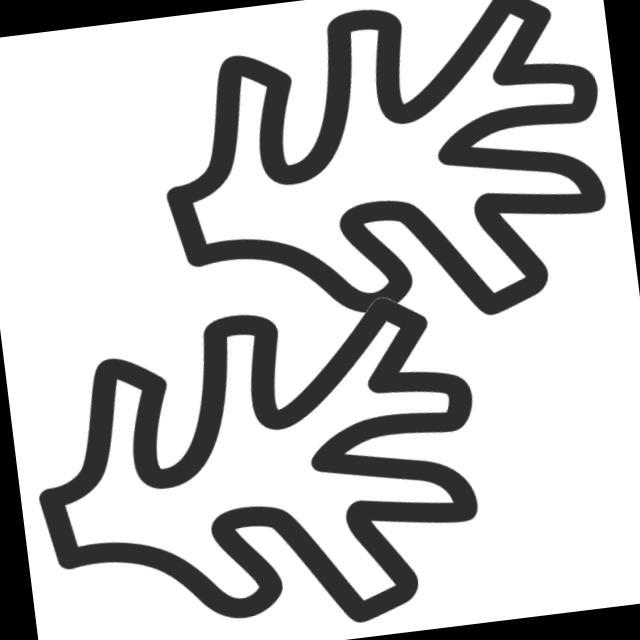coral: (125, 1, 630, 369), (10, 279, 505, 640)
